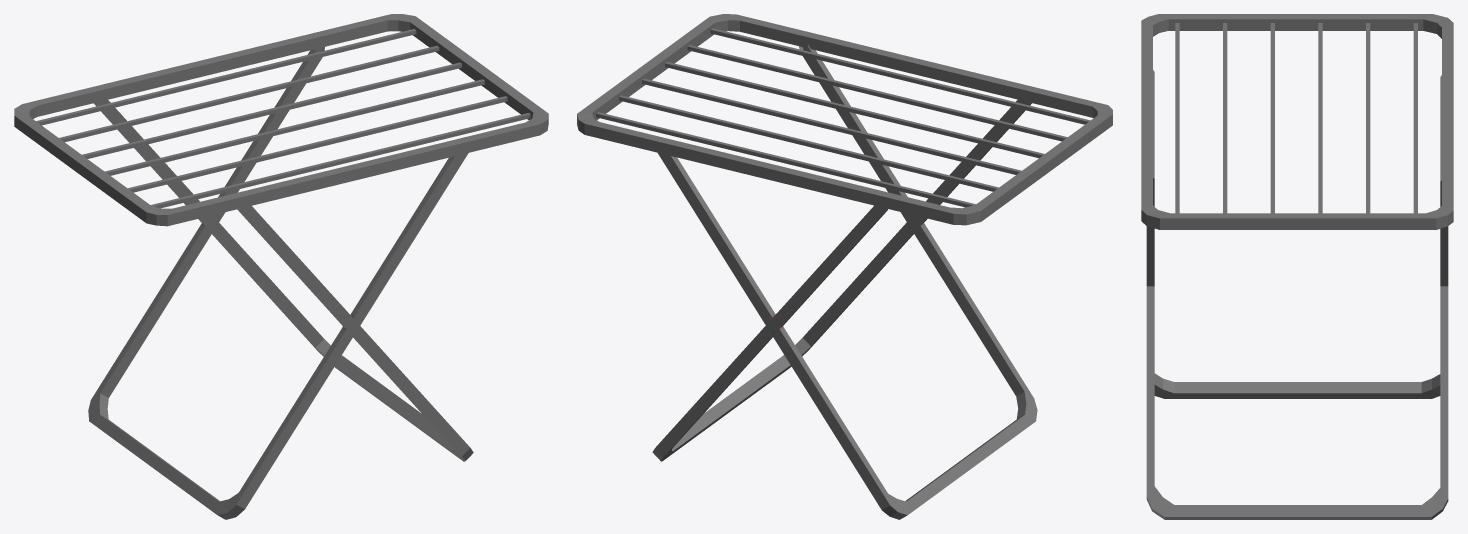
Rendered from Varal_De_pe.fbx.
The picture shows the model from 3 angles, left to right: view 1: azimuth 30°, elevation 25°; view 2: azimuth 150°, elevation 25°; view 3: azimuth 270°, elevation 25°; orthographic projection. The views are drawn at different scales.
Parts seen in each view (by area): view 1: Varal de pe; view 2: Varal de pe; view 3: Varal de pe.
Part boxes in pixels (bbox=[...]): Varal de pe: bbox=[14, 14, 548, 519]; Varal de pe: bbox=[577, 14, 1112, 519]; Varal de pe: bbox=[1141, 14, 1453, 519].
Bounding box in the file's own units: 277 × 217 × 179.
